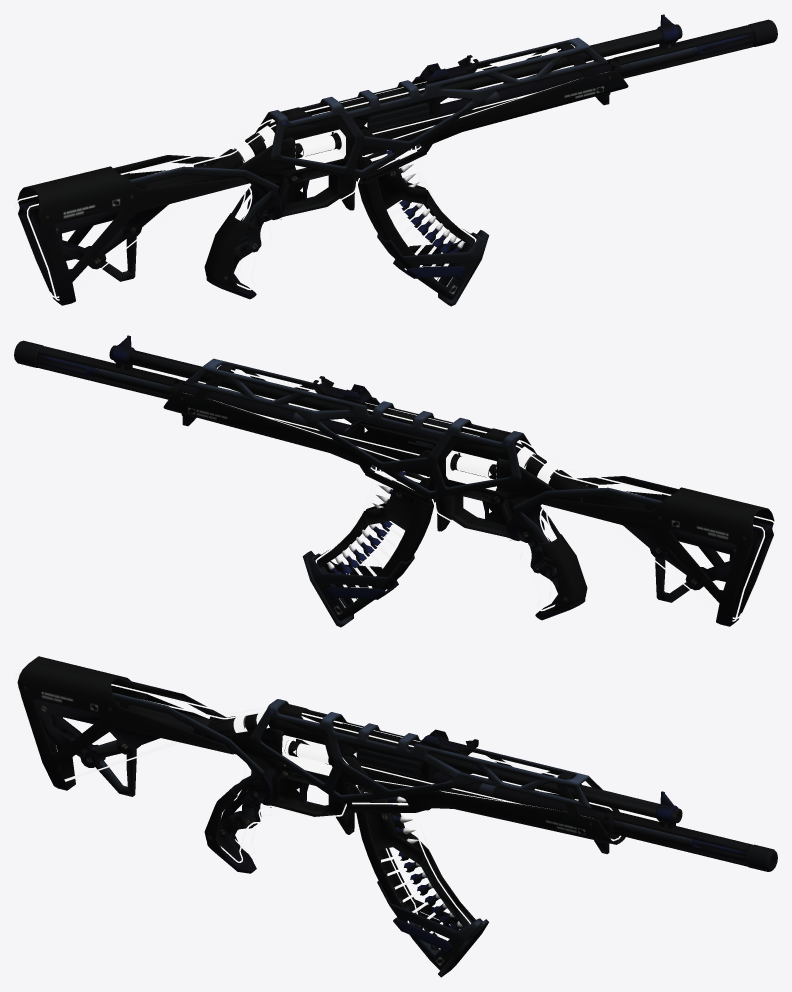
Rendered from BUNDLE_RGX.glb.
3 renders of one model, top to bottom at view 1: azimuth 30°, elevation 25°; view 2: azimuth 150°, elevation 25°; view 3: azimuth 330°, elevation 25°, orthographic.
Visible parts, largest first — view 1: GN_AK_Afterglow_Lv2_Skelmesh.mo.001; view 2: GN_AK_Afterglow_Lv2_Skelmesh.mo.001; view 3: GN_AK_Afterglow_Lv2_Skelmesh.mo.001.
Part boxes in pixels (bbox=[...]): GN_AK_Afterglow_Lv2_Skelmesh.mo.001: bbox=[15, 14, 777, 306]; GN_AK_Afterglow_Lv2_Skelmesh.mo.001: bbox=[14, 335, 776, 627]; GN_AK_Afterglow_Lv2_Skelmesh.mo.001: bbox=[15, 656, 777, 977].
Bounding box in the file's own units: 1.28 × 0.3862 × 0.0865.
5 materials, 2 textured.
